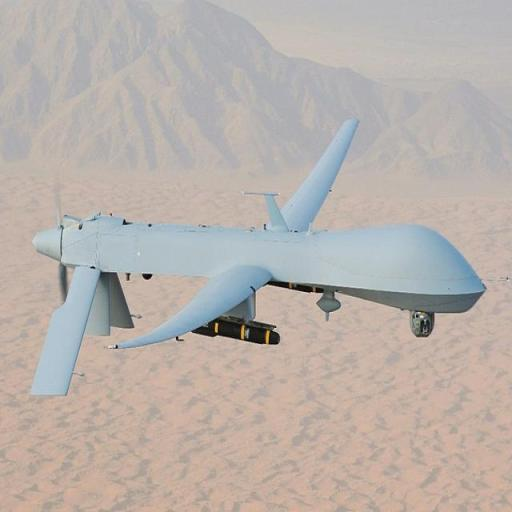uav: (20, 110, 492, 428)
